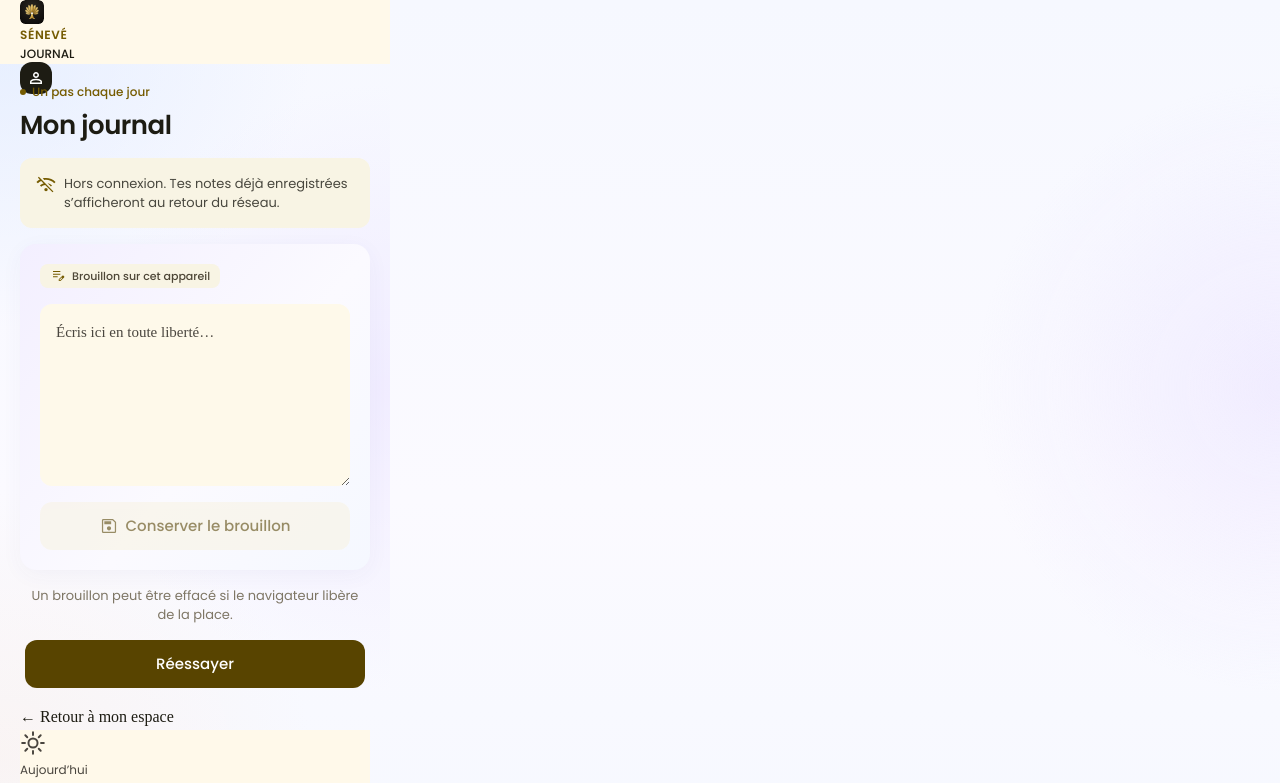
Test: journal hors connexion (maquette Stitch du 28/10/2026) › sans réseau, propose un brouillon gardé sur l’appareil et le dit seulement après relecture
Check: the text "Hors connexion. Tes notes déjà enregistrées s’afficheront au retour du réseau." is shown, box [64,174,354,212]
Check: the button "Conserver le brouillon" is disabled, box [40,502,350,550]
Type "Ma note sans réseau" into the text box labelled "Brouillon sur cet appareil".
click(195, 395); type("Ma note sans réseau")  # box [40,304,350,486]
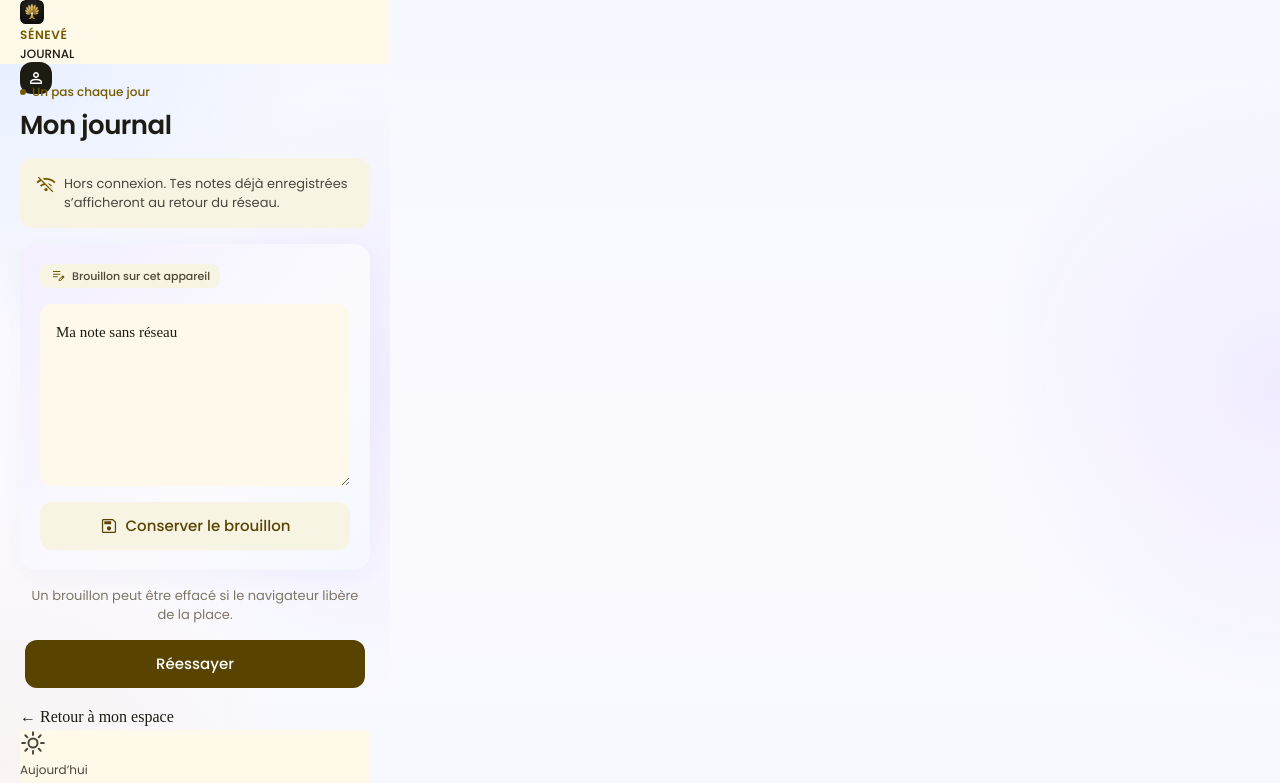
Click the button "Conserver le brouillon".
click(195, 526)  # box [40,502,350,550]
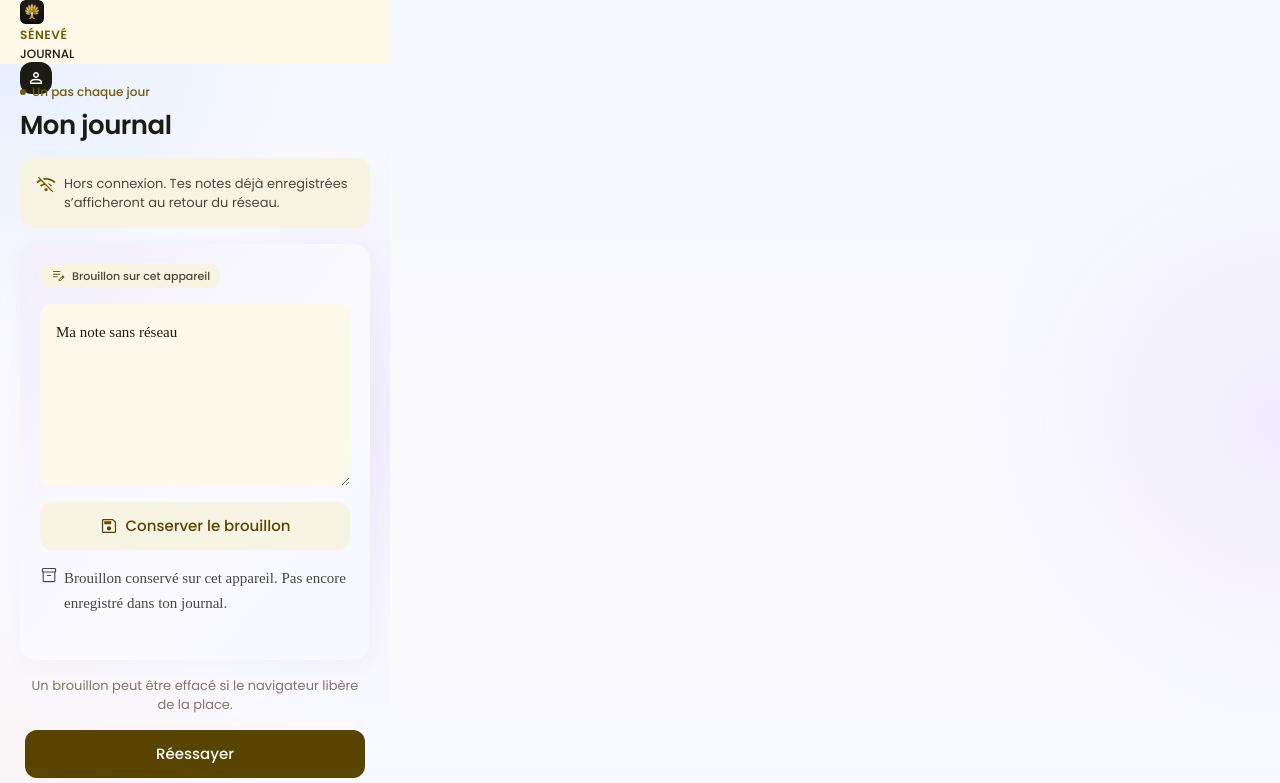
Check: the text "Un brouillon peut être effacé si le navigateur libère de la place." is shown, box [20,676,370,714]
Check: the text "Brouillon conservé sur cet appareil. Pas encore enregistré dans ton journal." is shown, box [40,566,350,616]
